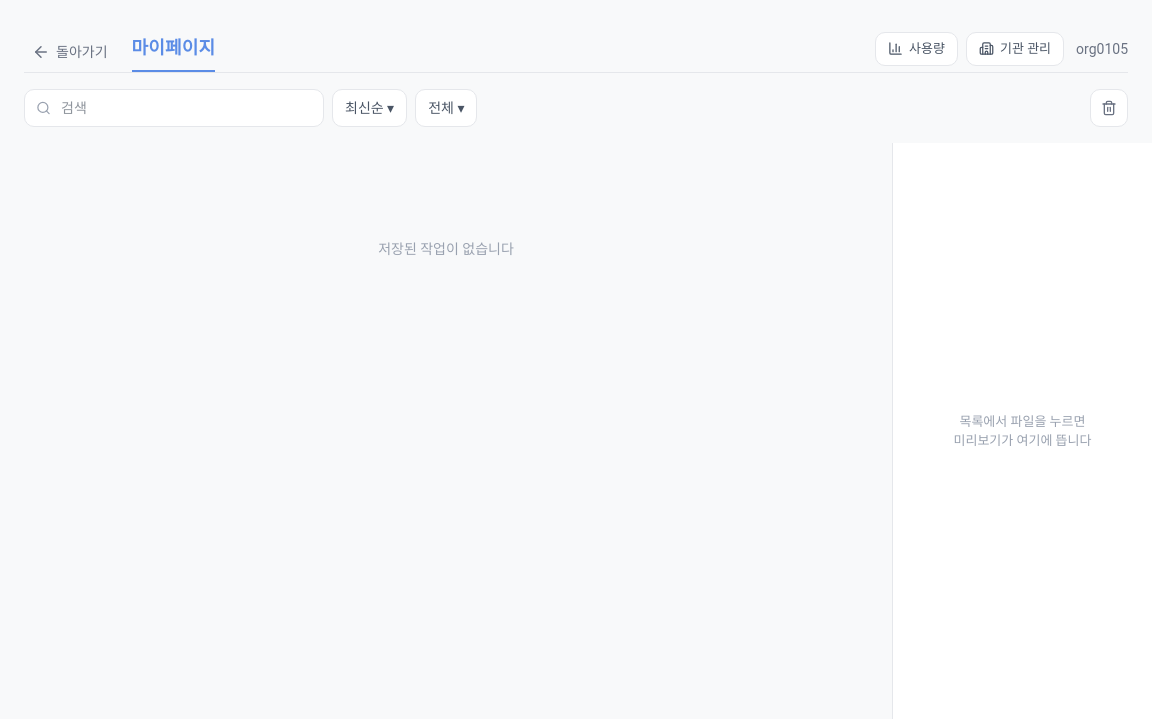
Test: 마이페이지 → V3-06 진입 › 기관 관리는 마이페이지 껍데기 없이 단독 화면으로 열린다
Click the button "기관 관리" at x=1015, y=49, box [966,32,1064,66]
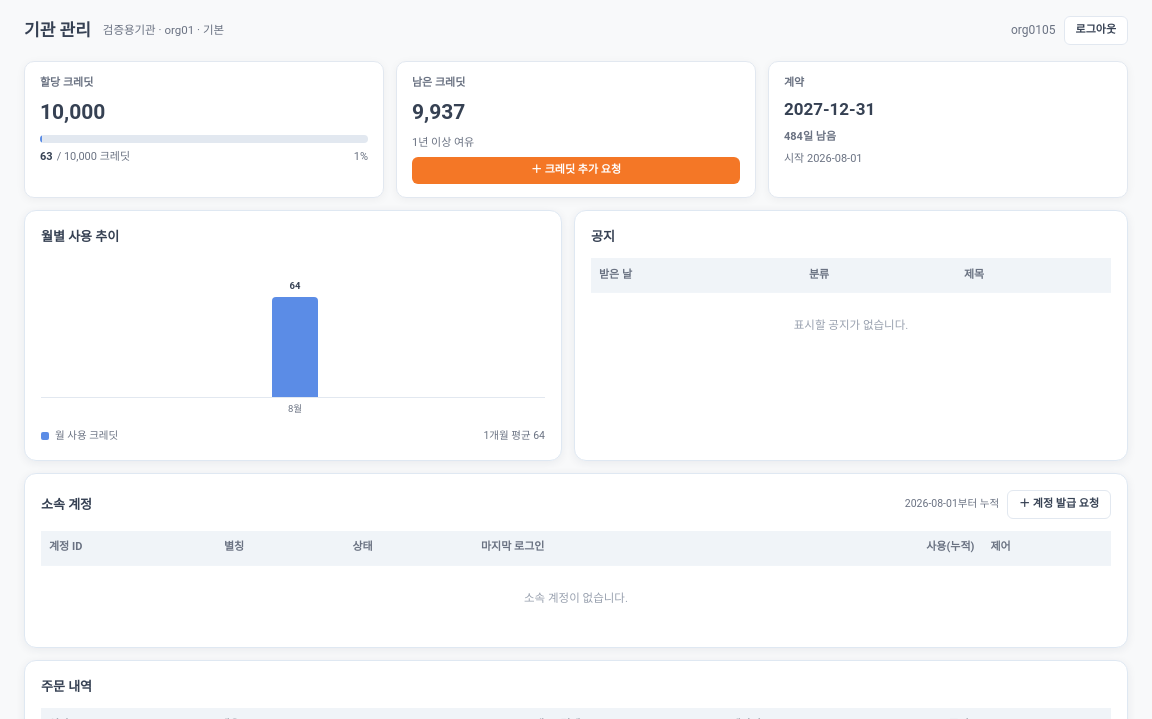
expect the button "돌아가기" is gone: met
expect the button "사용량" is gone: met
expect the heading "마이페이지" is gone: met
